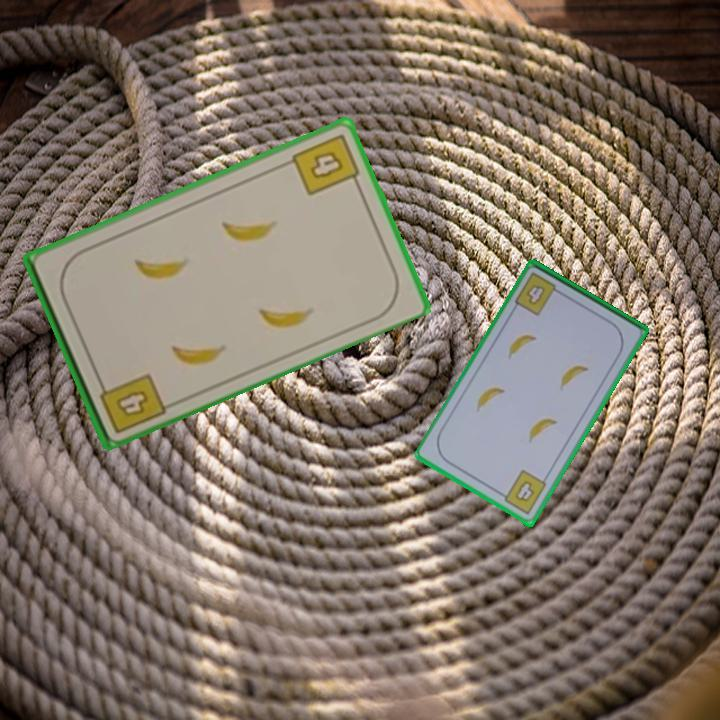4b: (288, 130, 364, 199), (94, 368, 168, 436), (495, 467, 549, 518), (522, 281, 549, 309)
